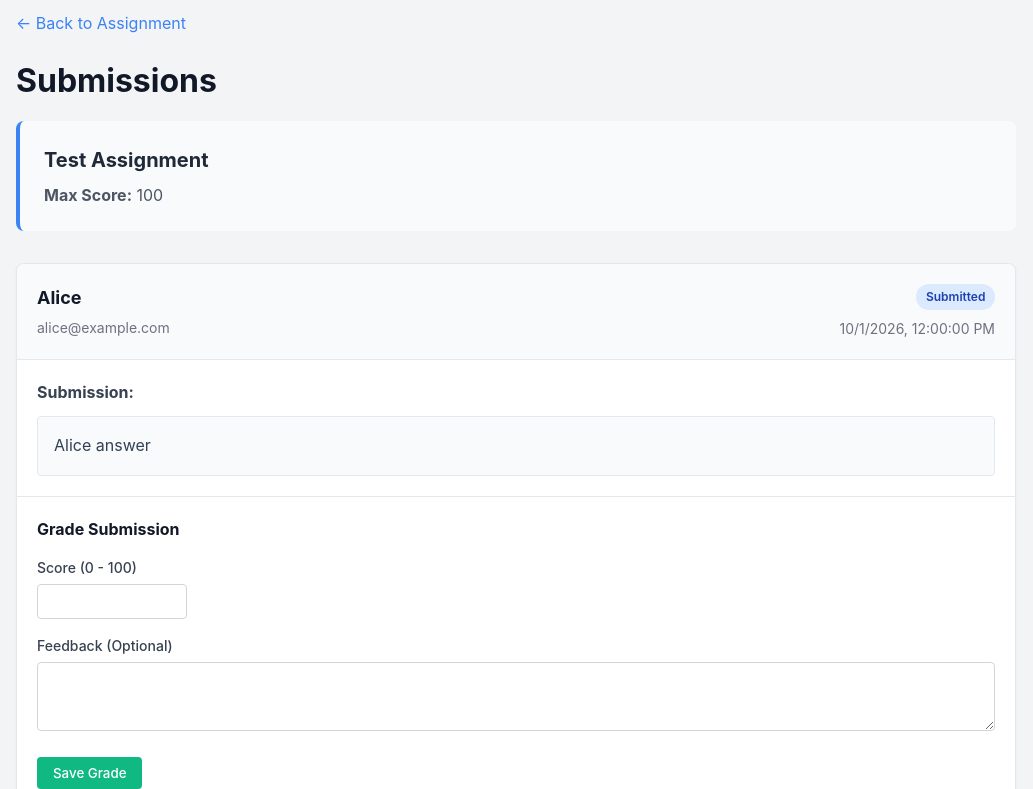
Test: Submissions.vue › disables submit button and ignores repeated clicks while saving
Type "90" into the number field labelled "Score (0 - 100)" at point(112, 601), box [37, 584, 187, 619]
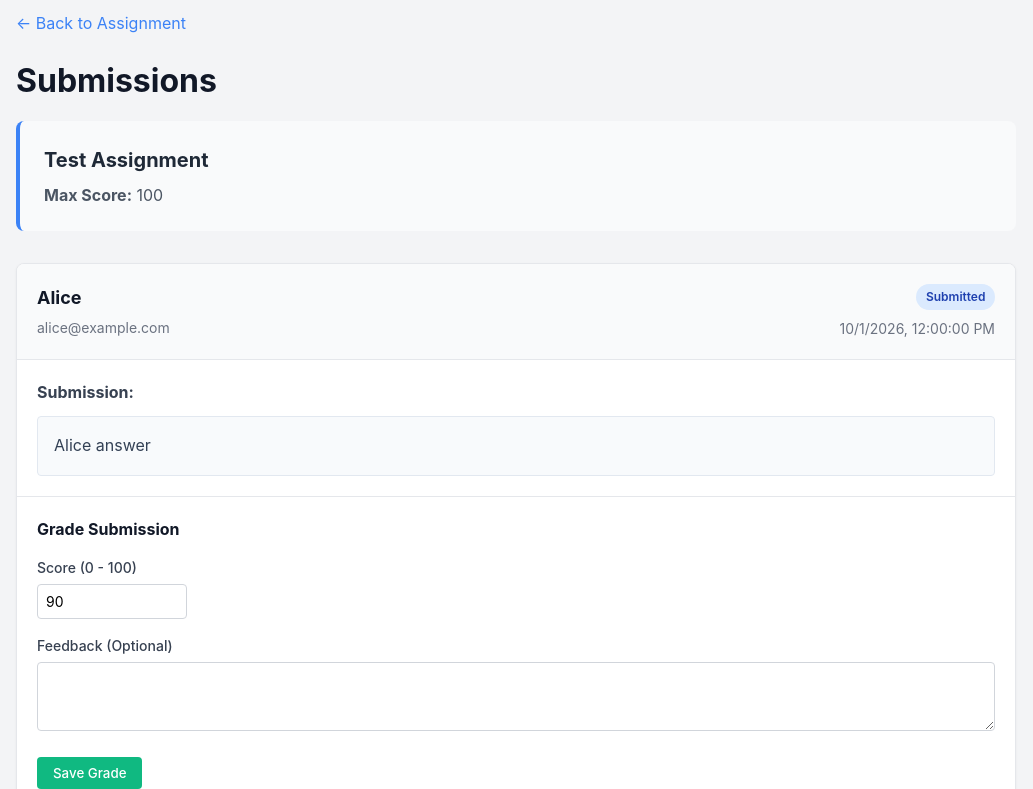
Submit the form with class "grading-form", box [37, 557, 995, 788]
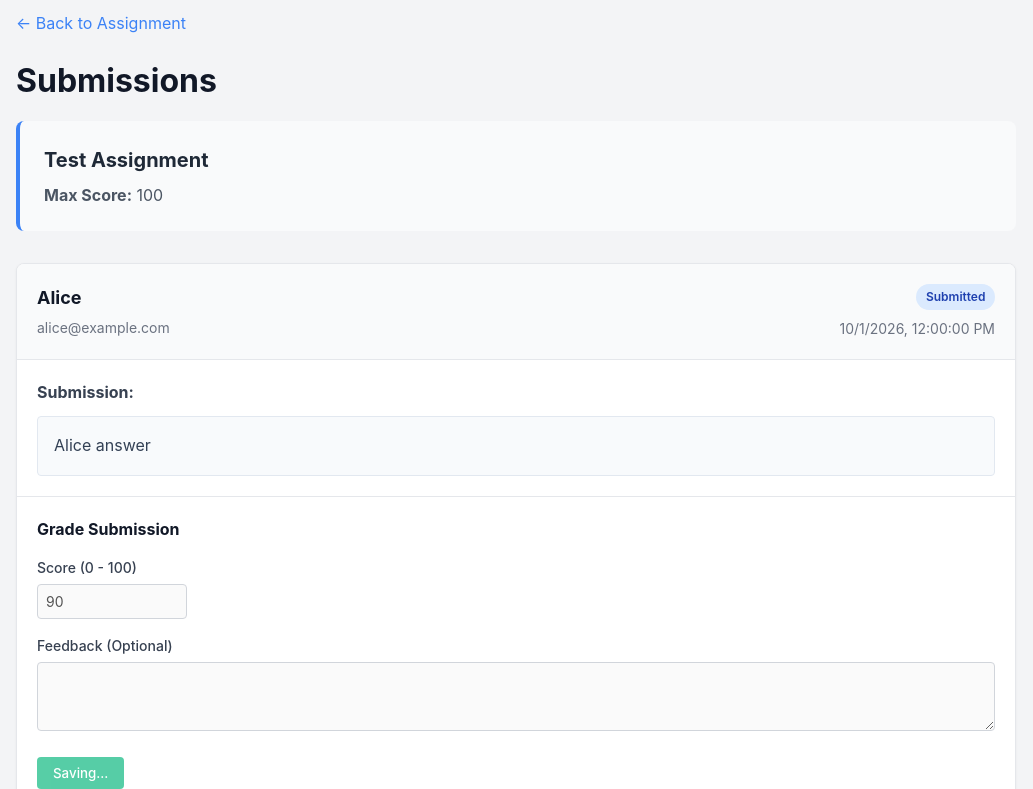
Expected: the button with class "submit-btn" is disabled, [37, 757, 124, 788]
Expected: the button with class "submit-btn" reads "Saving...", [37, 757, 124, 788]
// Trigger submit again to verify duplicate ignoring
Submit the form with class "grading-form", box [37, 557, 995, 788]
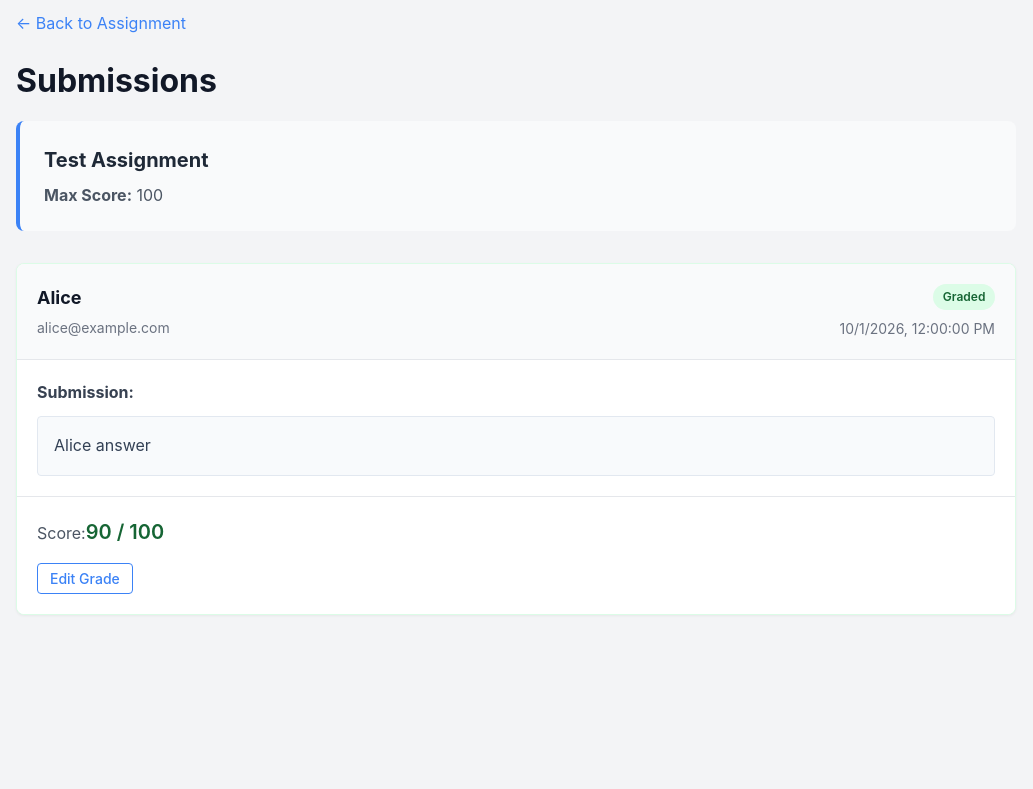
Expected: the element with class "graded-view" is shown, [37, 520, 164, 594]
Expected: the text "90 / 100" is shown, [86, 520, 164, 544]
